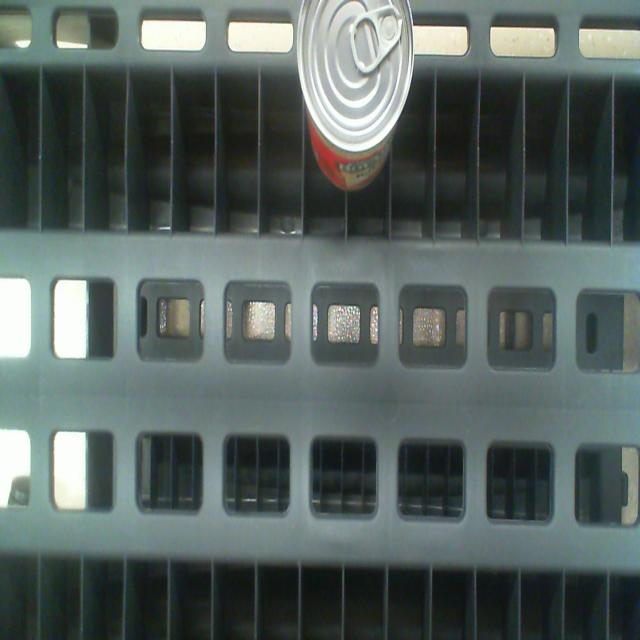can: (297, 2, 415, 152)
